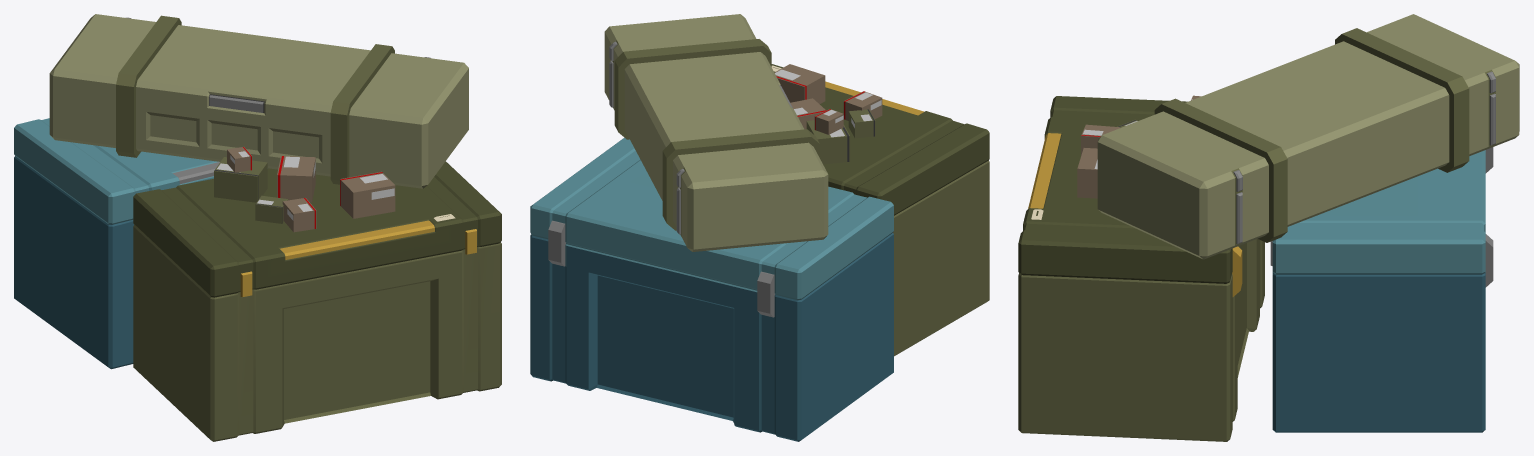
Rendered from model_ammo_supply.fbx.
The picture shows the model from 3 angles, left to right: view 1: azimuth 30°, elevation 25°; view 2: azimuth 150°, elevation 25°; view 3: azimuth 270°, elevation 25°; orthographic projection. The views are drawn at different scales.
Visible parts, largest first — view 1: model_ammo_supply; view 2: model_ammo_supply; view 3: model_ammo_supply.
Part boxes in pixels (bbox=[...]): model_ammo_supply: bbox=[14, 14, 501, 441]; model_ammo_supply: bbox=[530, 14, 989, 441]; model_ammo_supply: bbox=[1018, 14, 1519, 441].
Size of the model in its own units: 194 by 147 by 235.
1 material, 1 textured.
